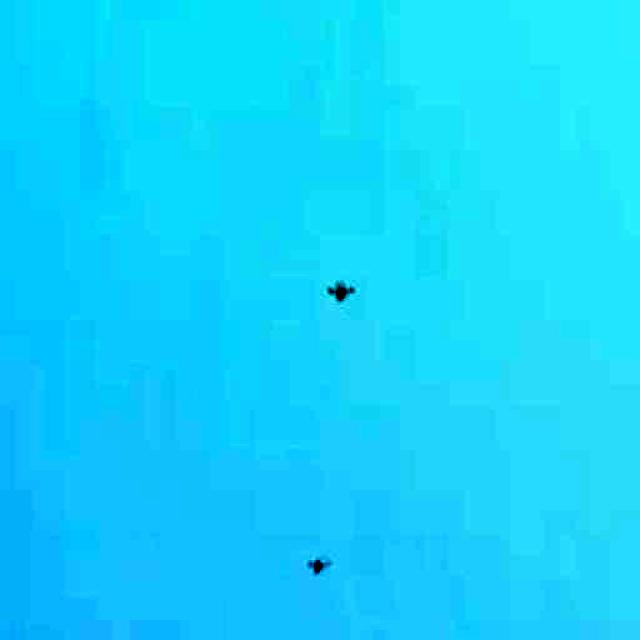bird: (325, 278, 358, 308), (306, 558, 335, 576)
